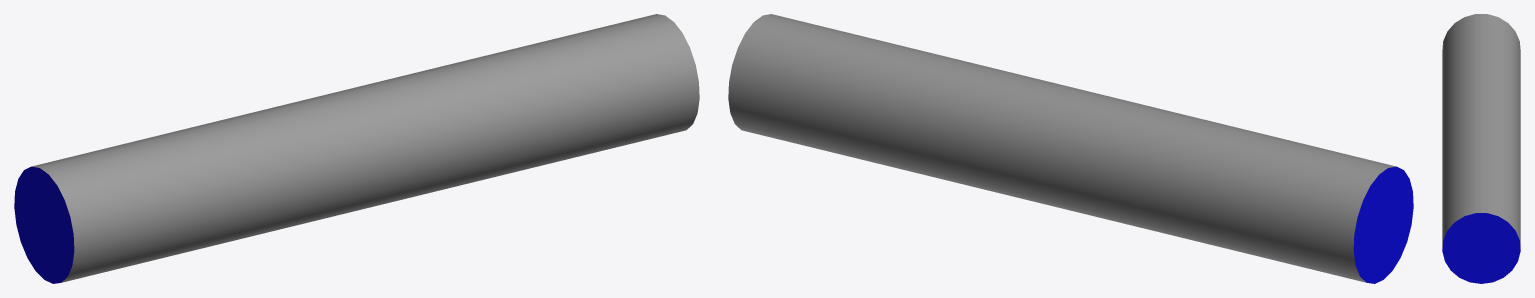
File: BD_Log.fbx
3 views of the same model, side by side, from view 1: azimuth 30°, elevation 25°; view 2: azimuth 150°, elevation 25°; view 3: azimuth 270°, elevation 25° (orthographic). The views are drawn at different scales.
Visible parts, largest first — view 1: Cylinder001; view 2: Cylinder001; view 3: Cylinder001.
Boxes of the visible parts, <box> form: Cylinder001: <box>14,14,699,283</box>; Cylinder001: <box>728,14,1413,283</box>; Cylinder001: <box>1442,14,1520,283</box>.
Size of the model in its own units: 79.07 by 13.12 by 13.16.
